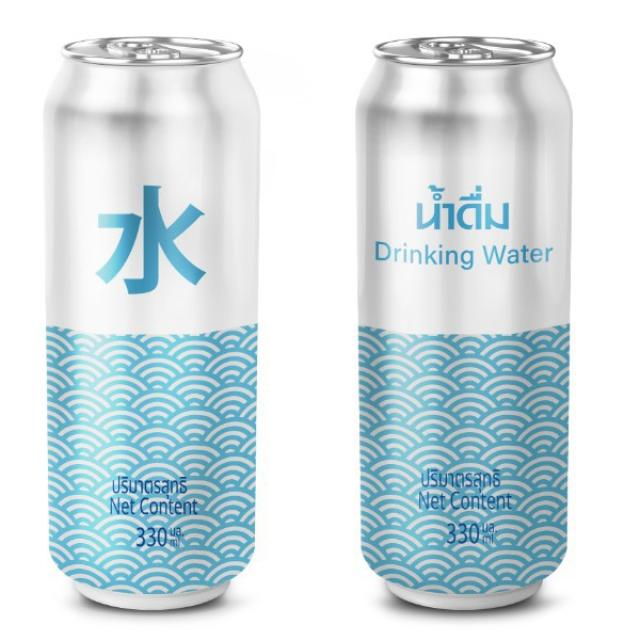can: (355, 40, 573, 613), (46, 39, 258, 618)
